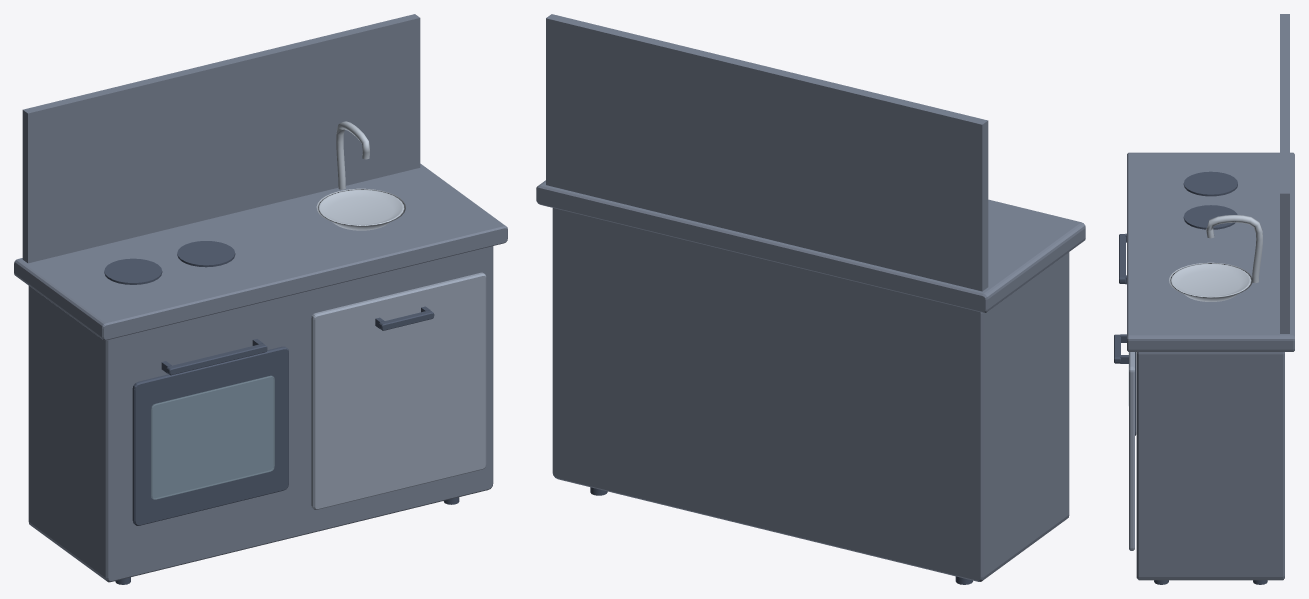
Rendered from play-kitchen-lite.glb.
3 views of the same model, side by side, from view 1: azimuth 30°, elevation 25°; view 2: azimuth 150°, elevation 25°; view 3: azimuth 270°, elevation 25° (orthographic). The views are drawn at different scales.
Parts seen in each view (by area): view 1: body, accent, soft, dark, glass, light; view 2: body, accent; view 3: body, accent, light, dark, soft.
Part boxes in pixels (x1,y1,x2,y2): body: (22,14,493,582); accent: (14,163,507,340); soft: (311,272,486,509); dark: (104,241,459,584); glass: (151,375,274,499); light: (316,121,405,230); body: (546,14,1069,581); accent: (536,180,1085,312); body: (1136,14,1289,580); accent: (1127,152,1294,351); light: (1169,215,1262,301); dark: (1114,171,1267,584); soft: (1129,352,1134,550).
Bounding box in the file's own units: 0.89 × 0.9 × 0.366.
